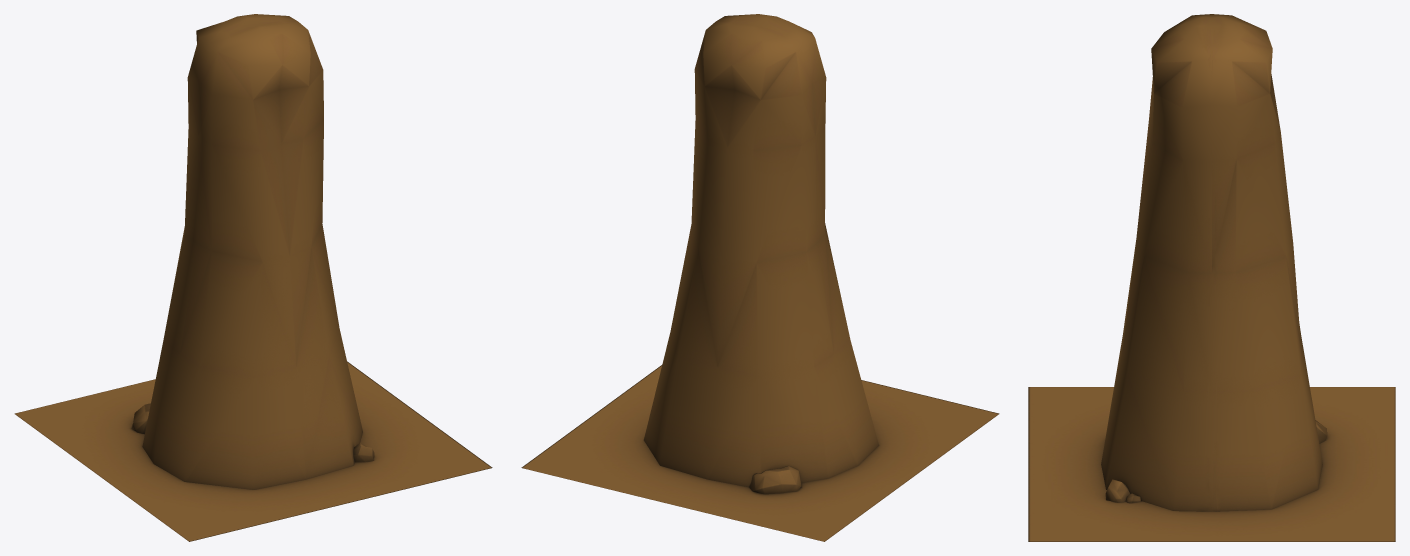
The model's file is Pillar.FBX.
3 renders of one model, left to right at view 1: azimuth 30°, elevation 25°; view 2: azimuth 150°, elevation 25°; view 3: azimuth 270°, elevation 25°, orthographic. The views are drawn at different scales.
Visible parts, largest first — view 1: Object035; view 2: Object035; view 3: Object035.
Part boxes in pixels (<box>): Object035: <box>14,14,492,541</box>; Object035: <box>521,14,999,541</box>; Object035: <box>1028,14,1395,541</box>.
Size of the model in its own units: 88.19 by 122 by 88.19.
